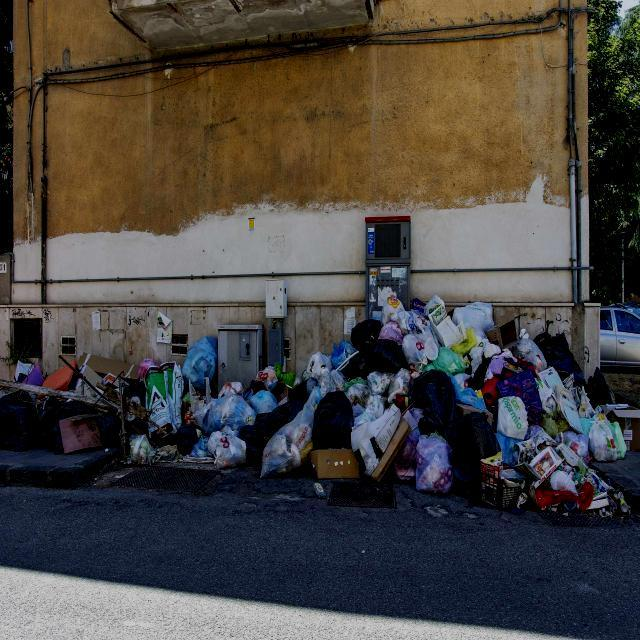high trash: (0, 290, 630, 516)
